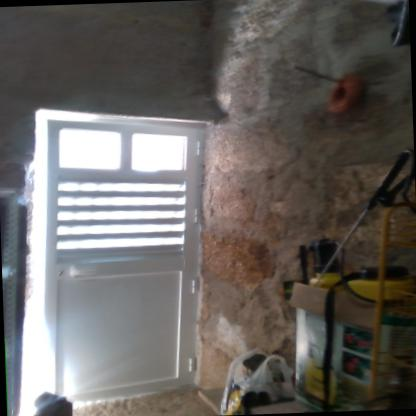closed: (41, 111, 211, 408)
